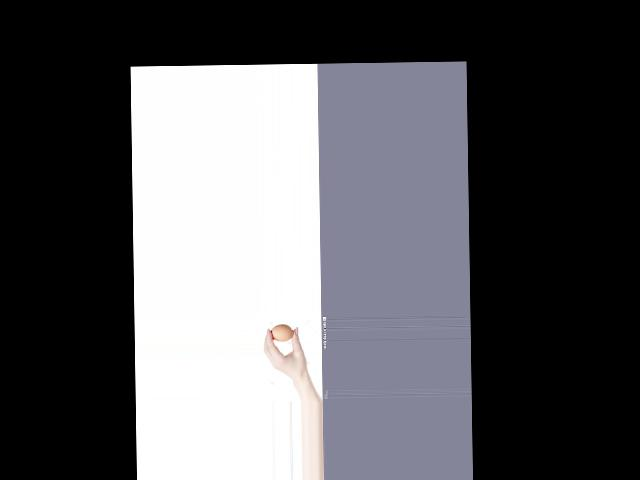egg: (271, 324, 293, 343)
